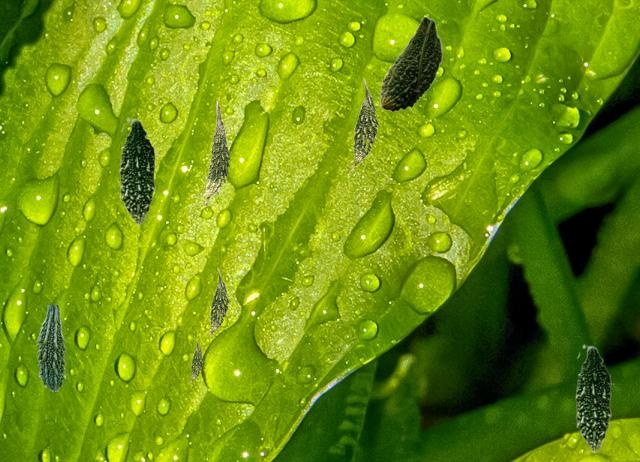ampalaya: (379, 16, 442, 111), (575, 344, 613, 452), (119, 117, 157, 225), (349, 77, 378, 167), (205, 101, 229, 205), (36, 305, 65, 390), (207, 267, 228, 334), (189, 337, 202, 381)
